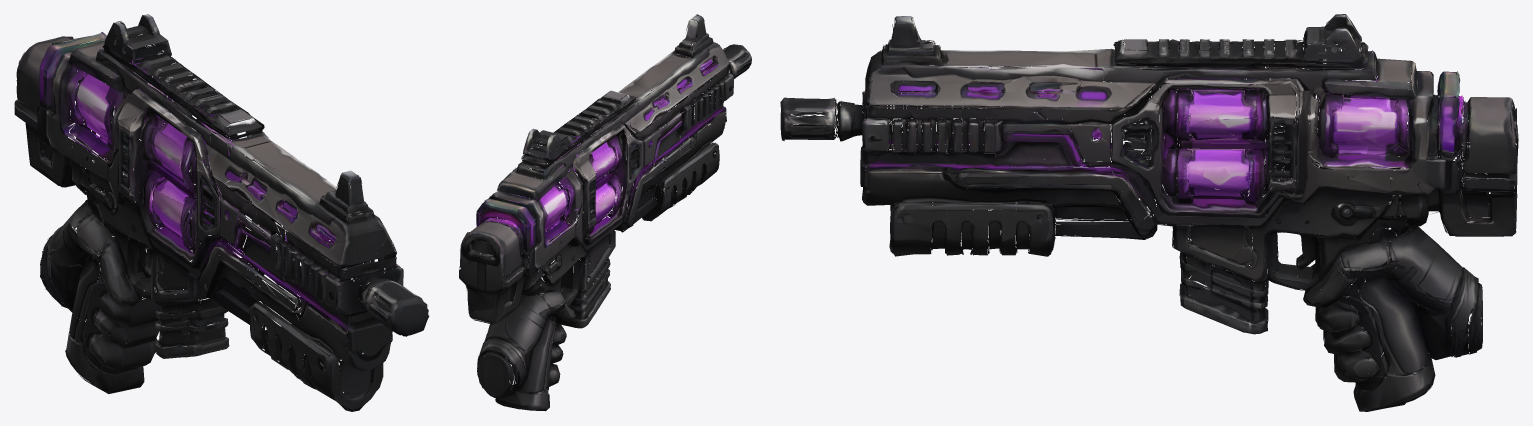
The model's file is weapon_voidrifle.glb.
The picture shows the model from 3 angles, left to right: view 1: azimuth 30°, elevation 25°; view 2: azimuth 150°, elevation 25°; view 3: azimuth 270°, elevation 25°; orthographic projection. The views are drawn at different scales.
Visible parts, largest first — view 1: model; view 2: model; view 3: model.
Boxes of the visible parts, x1=… form: model: x1=14, y1=14, x2=429, y2=411; model: x1=459, y1=14, x2=751, y2=411; model: x1=780, y1=14, x2=1518, y2=411.
Bounding box in the file's own units: 0.2177 × 0.9872 × 1.7.
1 material, 1 textured.
